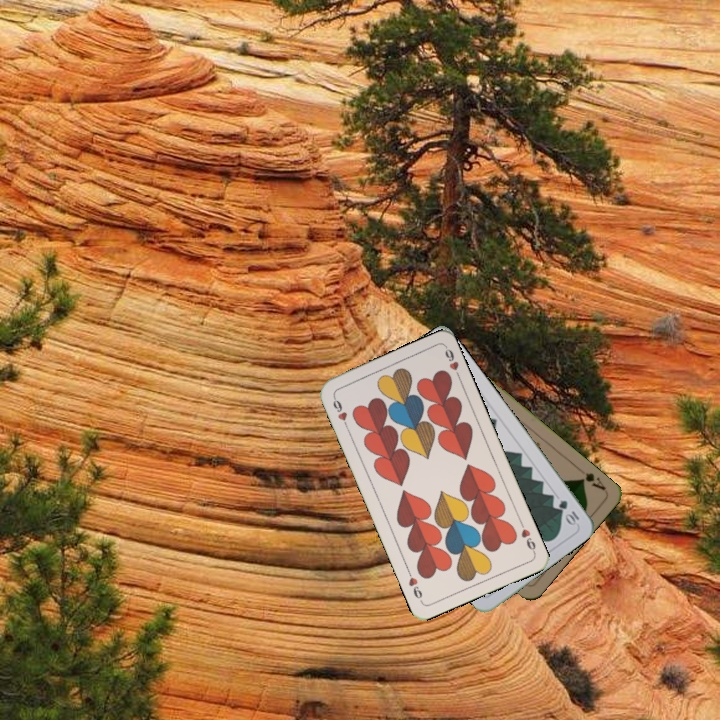G10: (554, 496, 582, 528)
GA: (576, 468, 608, 493)
H9: (516, 517, 538, 556), (329, 392, 351, 431)
